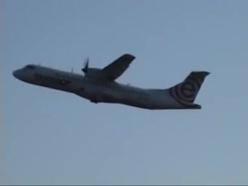aircraft: (13, 53, 211, 110)
